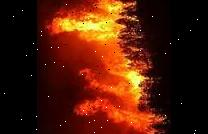fire: (76, 46, 162, 131), (48, 0, 146, 42)
